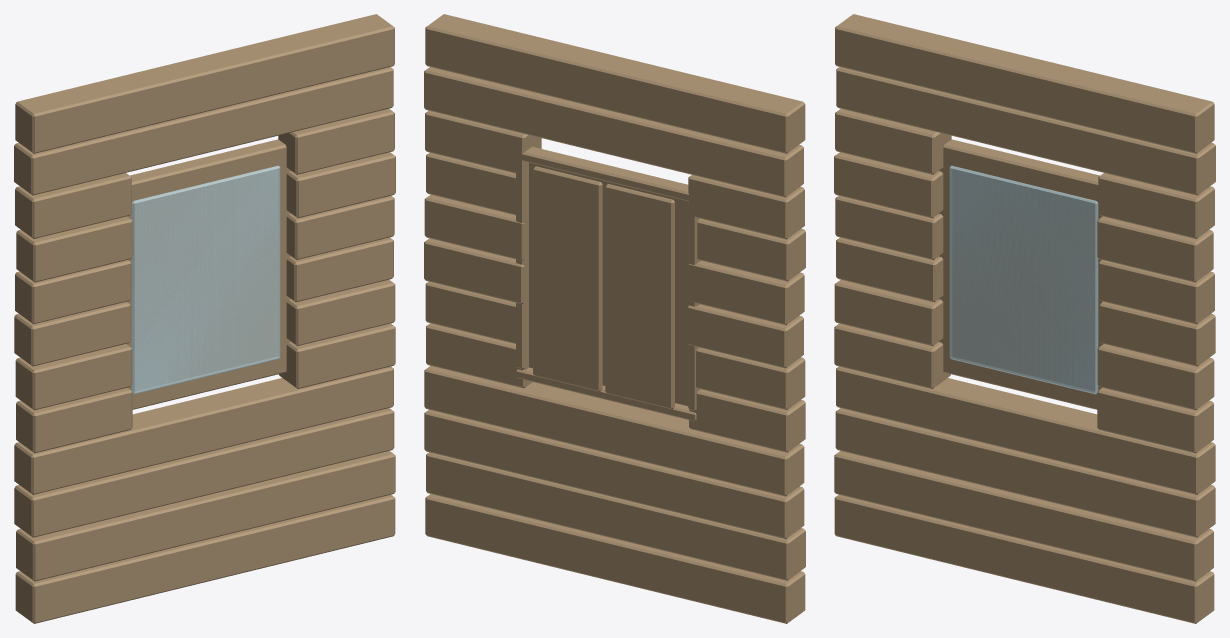
Rendered from window_shutters_closed.glb.
3 views of the same model, side by side, from view 1: azimuth 30°, elevation 25°; view 2: azimuth 150°, elevation 25°; view 3: azimuth 330°, elevation 25° (orthographic).
Visible parts, largest first — view 1: window_shutters_closed; view 2: window_shutters_closed; view 3: window_shutters_closed.
Part boxes in pixels (x1=…): window_shutters_closed: x1=14, y1=14, x2=395, y2=623; window_shutters_closed: x1=424, y1=14, x2=805, y2=623; window_shutters_closed: x1=834, y1=14, x2=1215, y2=623.
Size of the model in its own units: 2 by 2.68 by 0.2199.
